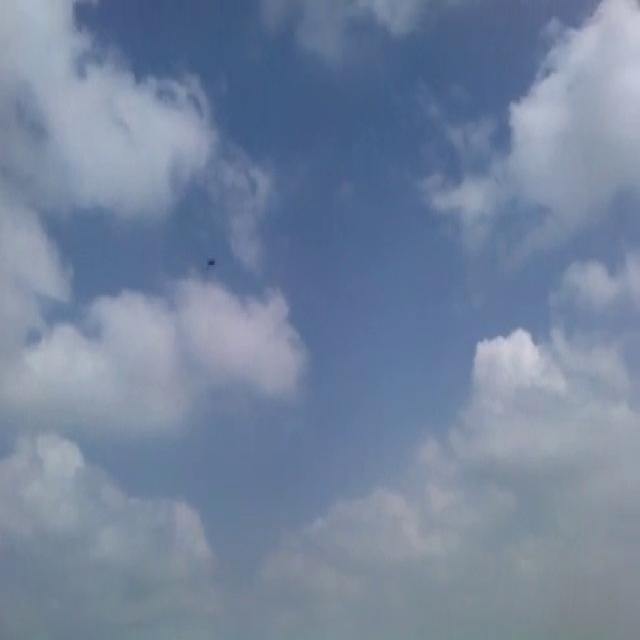drone: (204, 252, 215, 270)
